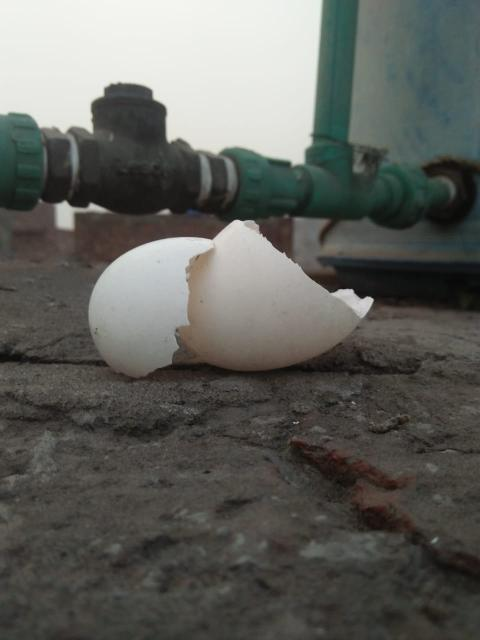Roto: (87, 218, 374, 378)
